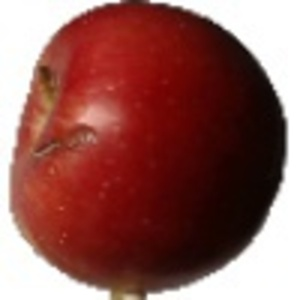maçã braeburn: (5, 1, 288, 291)
